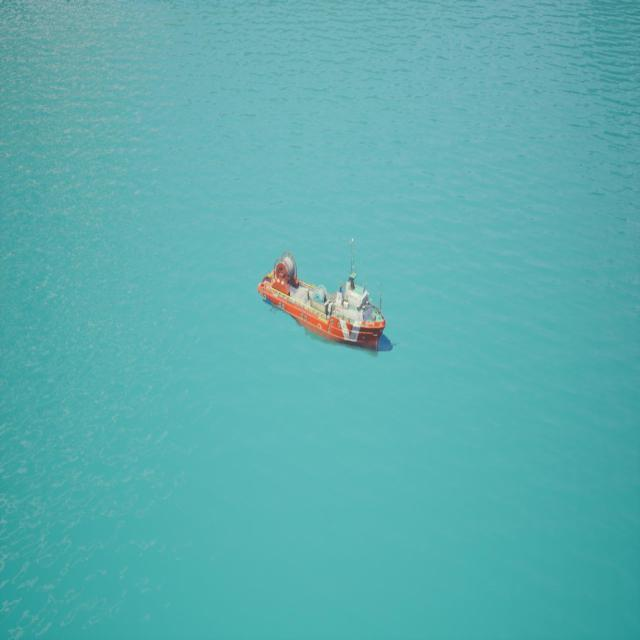tug boat: (257, 229, 376, 389)
